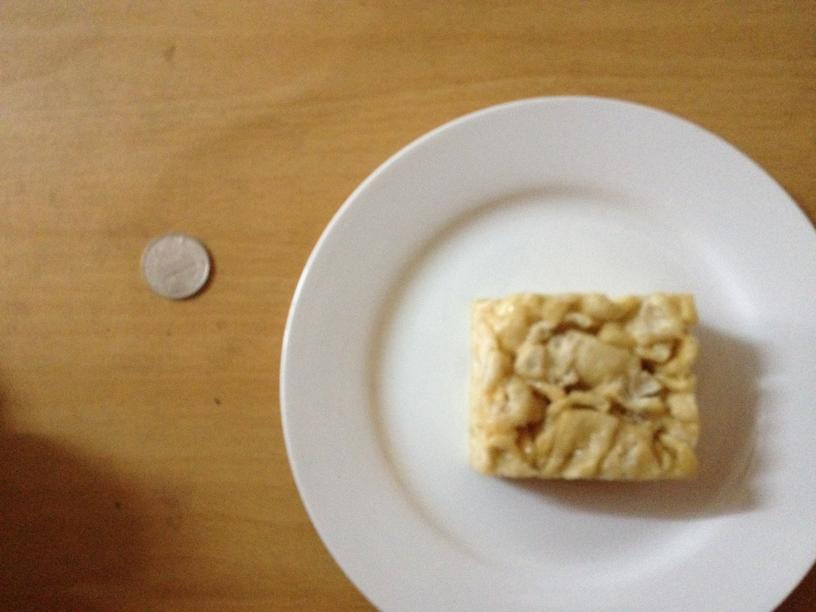coin: (140, 233, 209, 299)
sachima: (469, 294, 701, 480)
